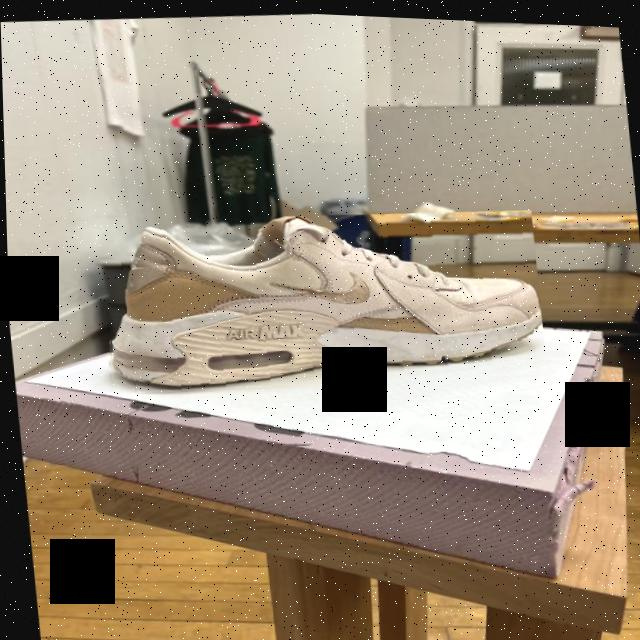shoe: (90, 190, 546, 408)
